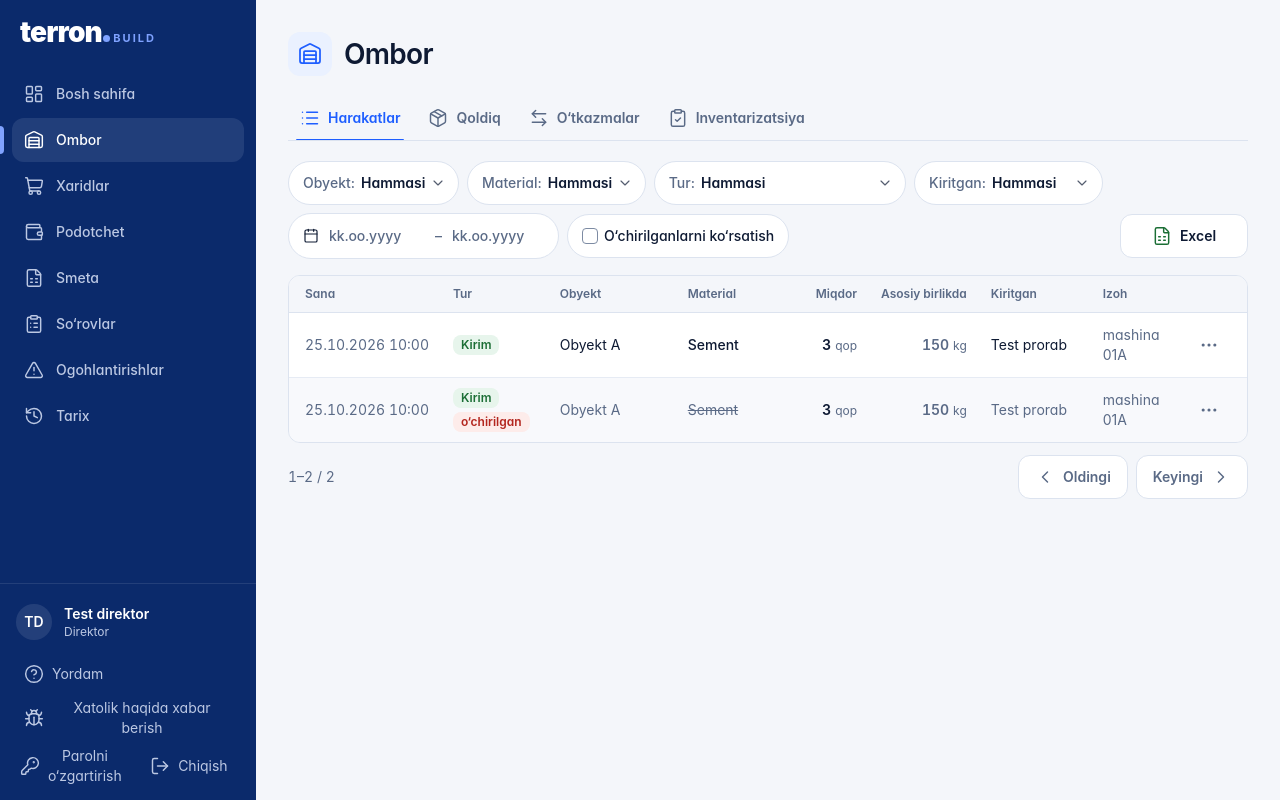
Test: /movements — Harakatlar › direktor — o‘chirilganlarni ko‘radi, lekin o‘chirish/tiklash yo‘q
Click the checkbox labelled "O‘chirilganlarni ko‘rsatish".
click(678, 236)  # box [567,214,789,258]
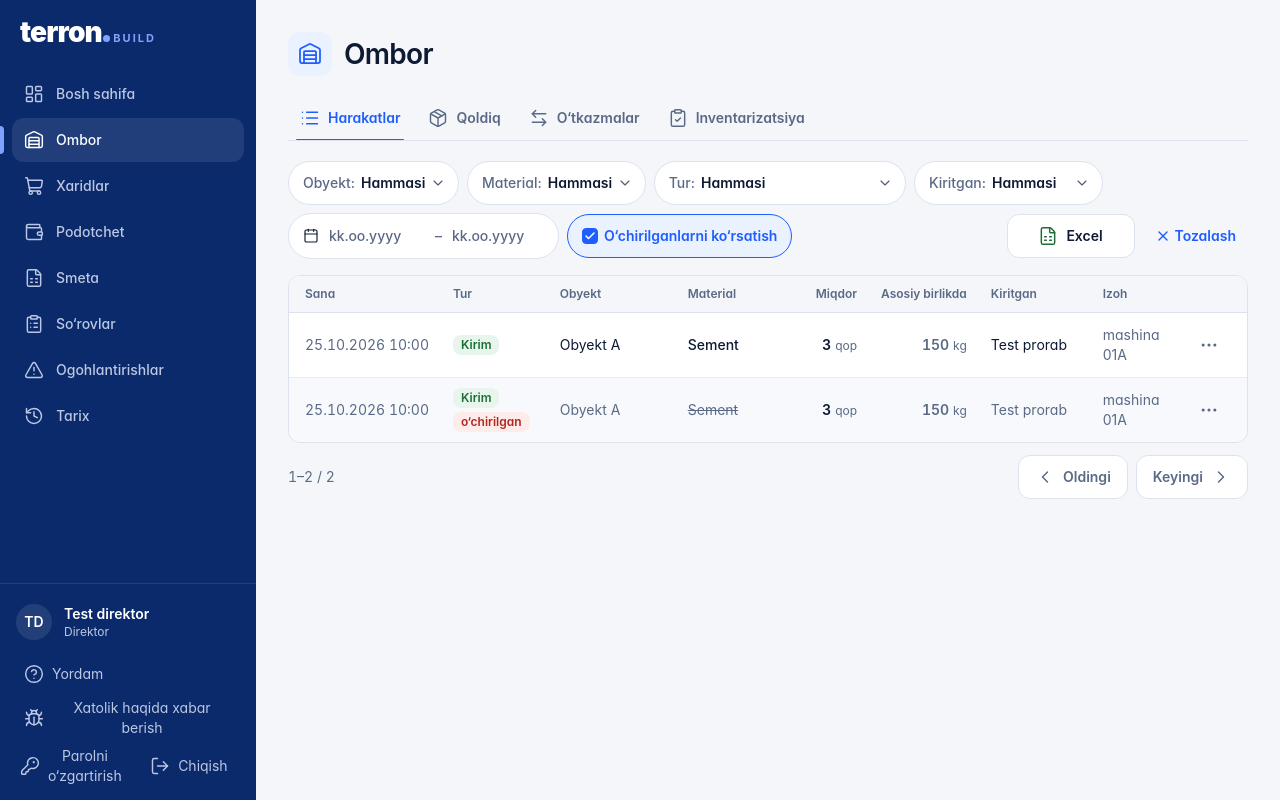
Check: the text "o‘chirilgan" is shown, box [453,412,530,432]
Rasm yo'q va o'chirish/tiklash huquqi yo'q — "⋯" menyusida faqat "Tarix" (Batch 10)
Click the 1st button named "Amallar".
click(1209, 345)  # box [1187,323,1231,367]
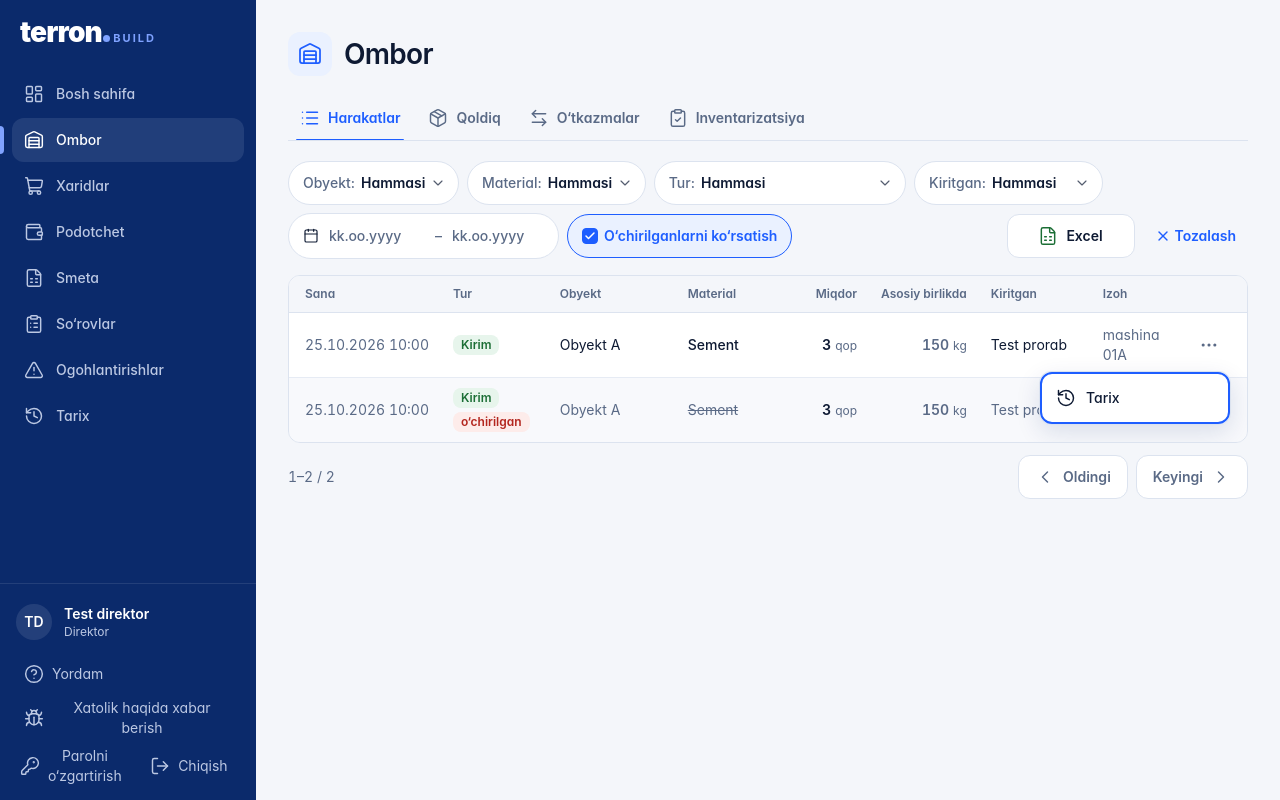
Check: the menu items read "Tarix", in this order
Click the menu item "Tarix".
click(1135, 398)  # box [1044,376,1226,420]
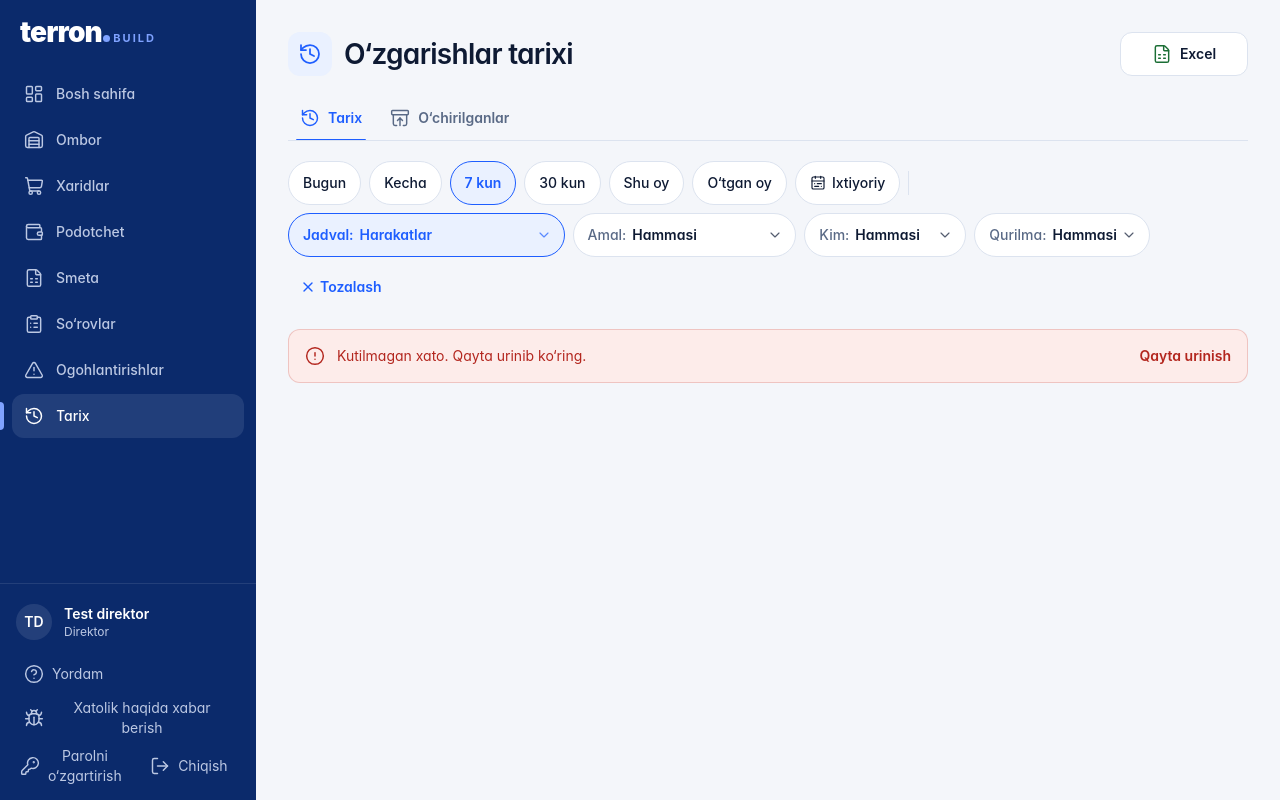
Check: the heading "O‘zgarishlar tarixi" is shown, box [344,37,573,71]
